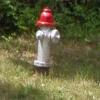Hydrant: (27, 4, 67, 76)
